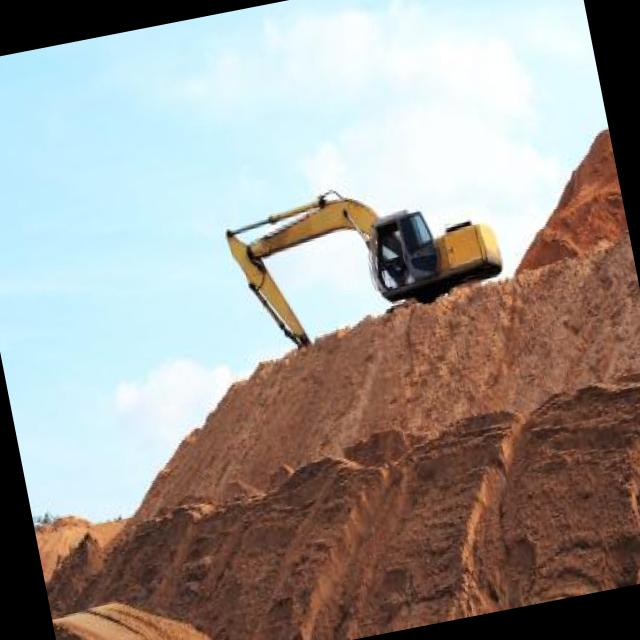Excavadora: (222, 158, 512, 359)
